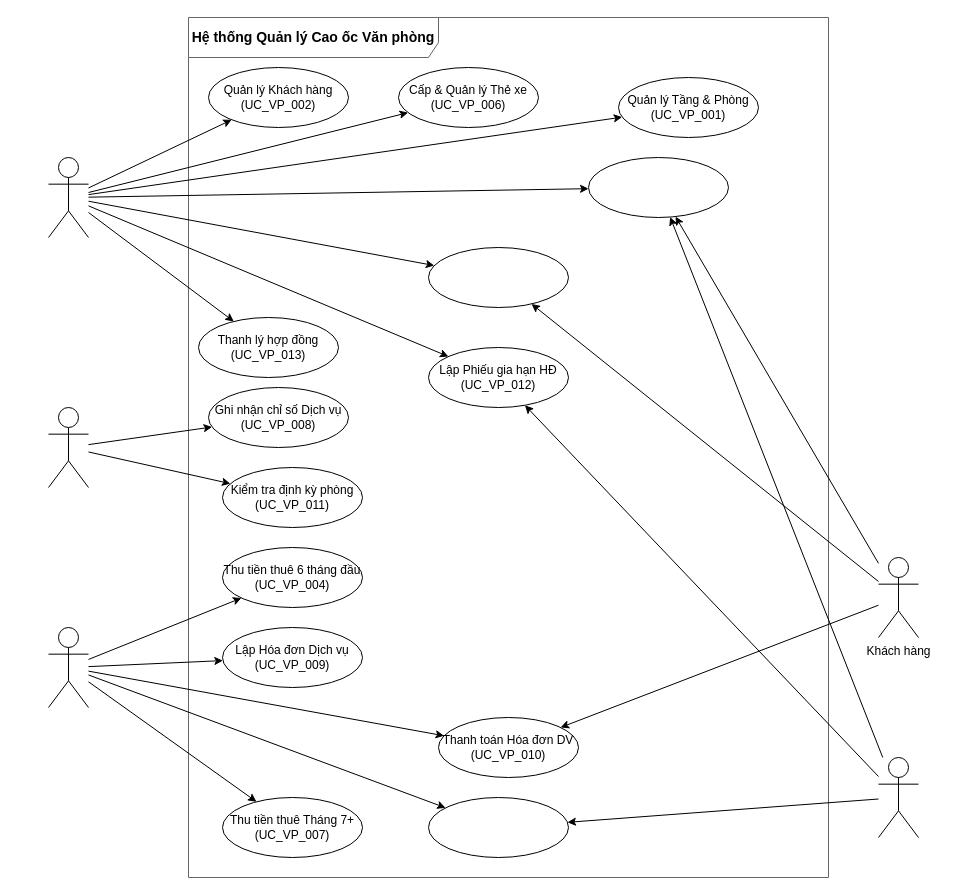
Some shapes in this 954 by 895 pixel diagram are drawn without their labels. The shapes that lost their labels are listed below. From the top down, each one's centre as x and y in pixels, then its label:
pixel 68 197: Nhân viên Quản lý
pixel 658 187: Lập & Ký Hợp đồng (UC_VP_003)
pixel 498 277: Đăng ký Nhân viên (UC_VP_005)
pixel 68 447: Bảo trì / Kiểm tra
pixel 68 667: Kế toán / Thu ngân
pixel 898 797: Ban Giám Đốc
pixel 498 827: Báo cáo doanh thu & Nợ (UC_VP_014)
